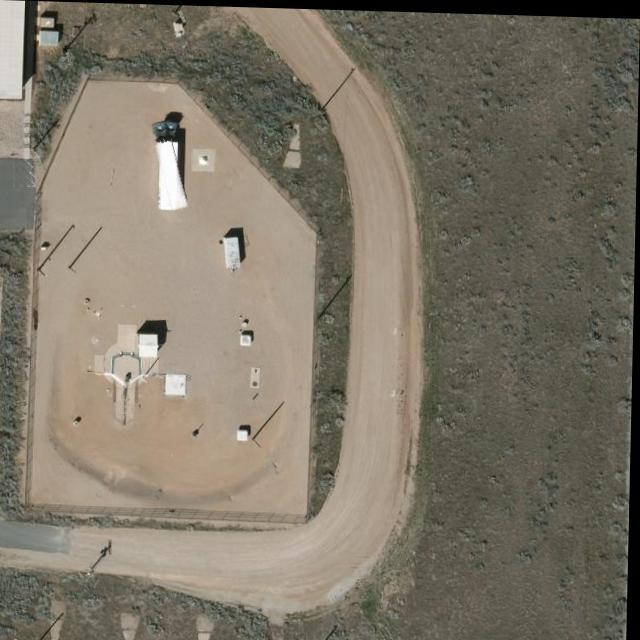vehicle: (154, 119, 186, 210)
